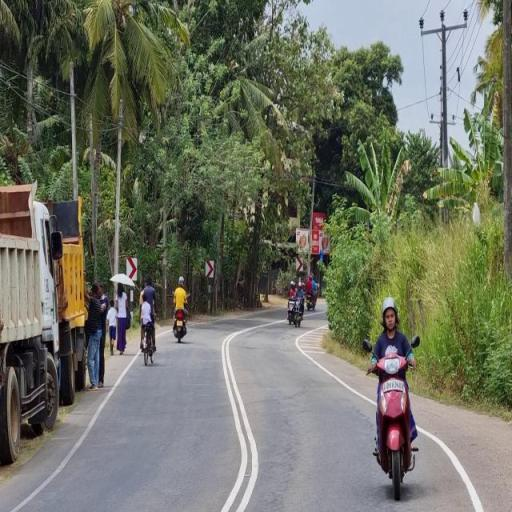double_white_line: (218, 326, 260, 512)
